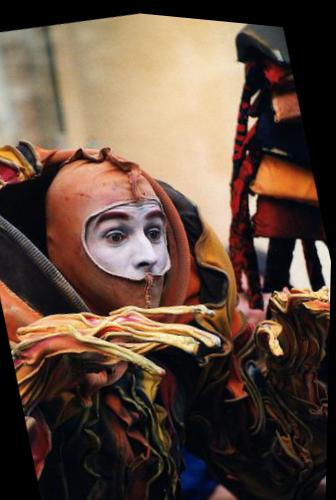WRONG: (70, 192, 182, 320)
